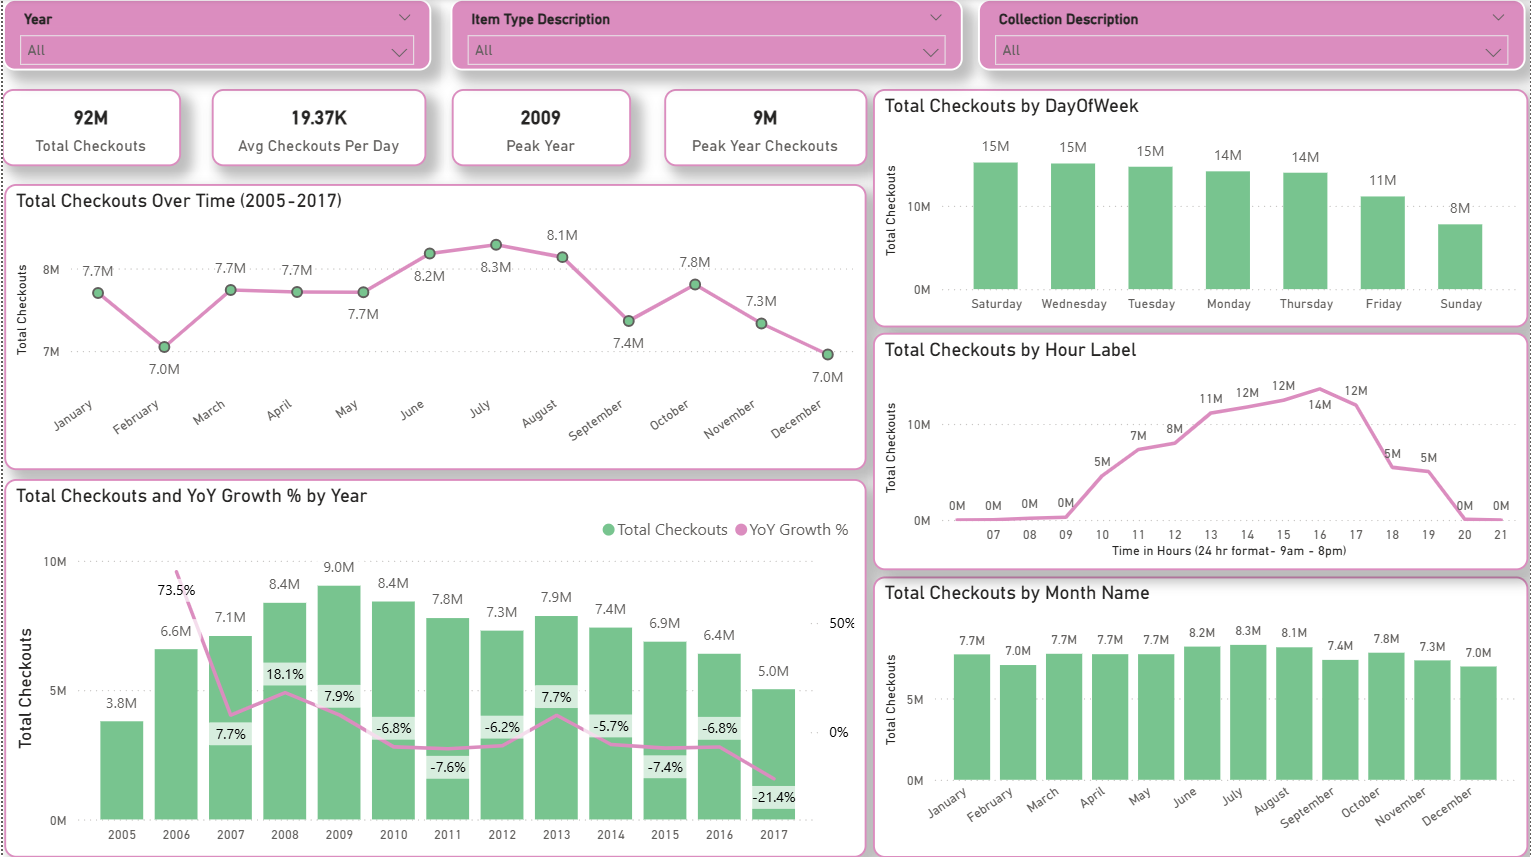

What the dashboard file says about the page in this screenshot:
{"tool":"powerbi","page":{"name":"Dashboard 1 Checkout Trends","canvas":[1280,720],"ordinal":0},"visuals":[{"type":"card","fields":{"Values":["Checkouts.Total Checkouts"]},"box":[-1,75.5,150,65],"z":0},{"type":"card","fields":{"Values":["Checkouts.Peak Year Checkouts"]},"box":[554.6,75.5,170,65],"z":1000},{"type":"card","fields":{"Values":["Checkouts.Peak Year"]},"box":[376.4,75.5,150,65],"z":2000},{"type":"card","fields":{"Values":["Checkouts.Avg Checkouts Per Day"]},"box":[175.1,75.5,180,65],"z":3000},{"type":"lineChart","title":"Total Checkouts Over Time (2005-2017)","fields":{"Category":["Checkouts.CheckoutDateTime.Variation.Date Hierarchy.Month"],"Y":["Checkouts.Total Checkouts"]},"box":[1,155.2,723.4,240.1],"z":4000},{"type":"lineClusteredColumnComboChart","fields":{"Y":["Checkouts.Total Checkouts"],"Y2":["Checkouts.YoY Growth %"],"Category":["Checkouts.Year"]},"box":[1,402.6,723.4,317.6],"z":5000},{"type":"clusteredColumnChart","fields":{"Category":["Checkouts.Month Name"],"Y":["Checkouts.Total Checkouts"]},"box":[729.6,484.3,549.3,235.9],"z":6000},{"type":"clusteredColumnChart","fields":{"Category":["Checkouts.DayOfWeek"],"Y":["Checkouts.Total Checkouts"]},"box":[729.6,75.5,549.3,200.2],"z":7000},{"type":"lineChart","fields":{"Y":["Checkouts.Total Checkouts"],"Category":["Checkouts.Hour Label"]},"box":[729.6,279.9,549.3,199.2],"z":8000},{"type":"slicer","fields":{"Values":["Checkouts.Year"]},"box":[0,0,359.5,60],"z":9000},{"type":"slicer","fields":{"Values":["Checkouts.ItemType_Description"]},"box":[375.3,0,429.8,59.8],"z":10000},{"type":"slicer","fields":{"Values":["Checkouts.Collection_Description"]},"box":[817.7,0,459.2,59.8],"z":11000}]}

Visuals, with their boxes in screenshot pixels (x1, y1, x2, y2), scaled from the page's 1280x720 canvas onto the 1531x857 screenshot:
card - Checkouts.Total Checkouts: [0,90,178,167]
card - Checkouts.Peak Year Checkouts: [663,90,867,167]
card - Checkouts.Peak Year: [450,90,630,167]
card - Checkouts.Avg Checkouts Per Day: [209,90,425,167]
"Total Checkouts Over Time (2005-2017)" lineChart: [1,185,866,471]
lineClusteredColumnComboChart - Checkouts.Total Checkouts x Checkouts.YoY Growth %: [1,479,866,856]
clusteredColumnChart - Checkouts.Month Name x Checkouts.Total Checkouts: [873,576,1530,856]
clusteredColumnChart - Checkouts.DayOfWeek x Checkouts.Total Checkouts: [873,90,1530,328]
lineChart - Checkouts.Total Checkouts x Checkouts.Hour Label: [873,333,1530,570]
slicer - Checkouts.Year: [0,0,430,71]
slicer - Checkouts.ItemType_Description: [449,0,963,71]
slicer - Checkouts.Collection_Description: [978,0,1527,71]
